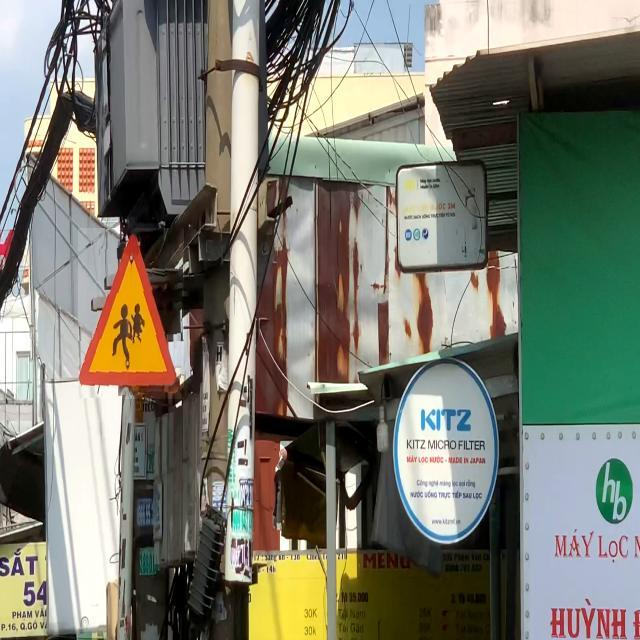W-225: (79, 228, 185, 399)
